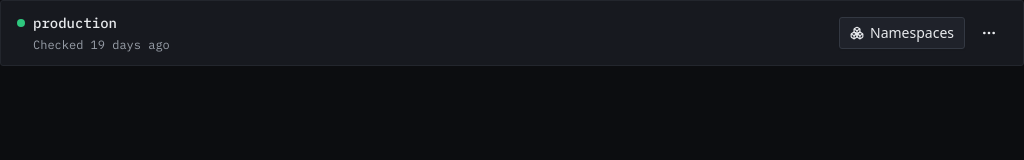
Test: a failed re-verify says why
Press Enter in the button named "manage production", box [971,15,1007,51]
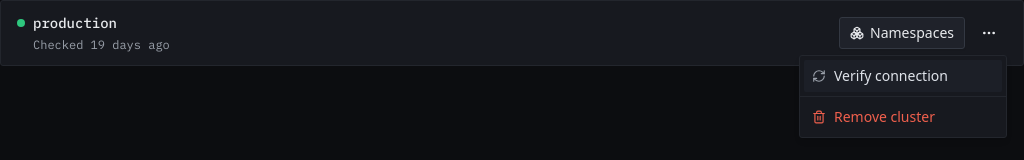
Click the menu item "Verify connection".
click(903, 76)  # box [804,60,1002,92]
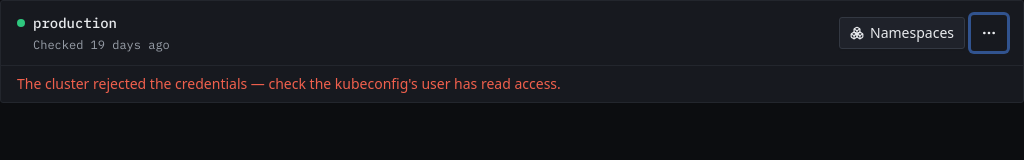
Expected: the message shows "rejected the credentials", [17,74,561,93]
